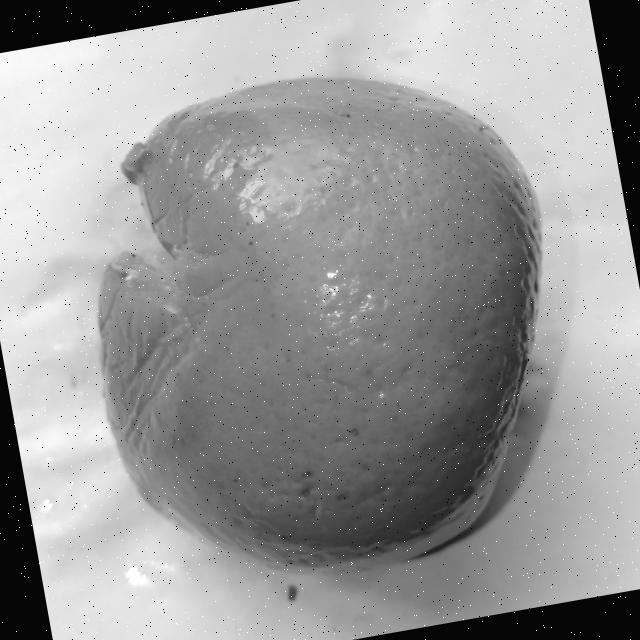Rotten: (50, 33, 597, 606)
